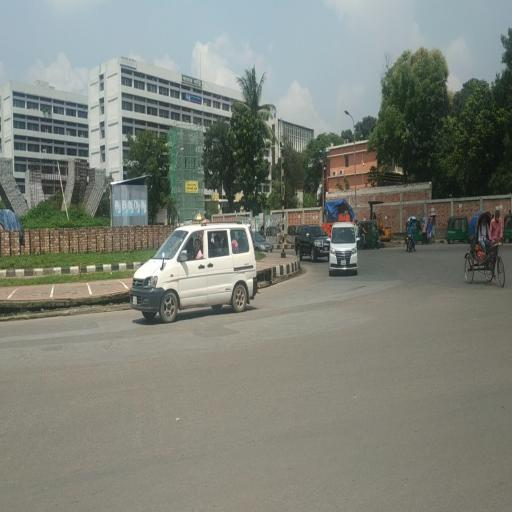bicycle: (359, 236, 375, 252)
car: (253, 232, 274, 256)
minivan: (130, 220, 262, 326), (329, 221, 360, 276)
motorbike: (406, 231, 416, 256)
rickshaw: (468, 210, 504, 294)
suv: (297, 223, 330, 264)
three wheelers (CNG): (446, 215, 468, 247), (266, 223, 284, 246), (373, 220, 382, 252), (504, 214, 512, 245), (288, 225, 297, 244)
